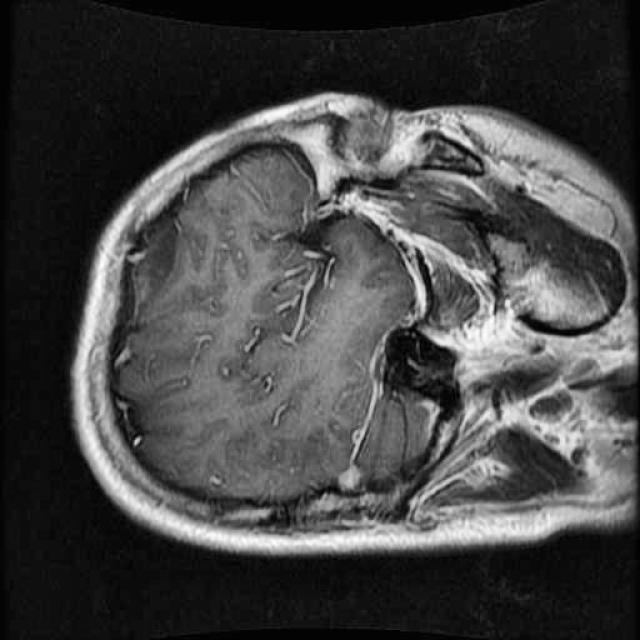Tumor: (131, 206, 193, 308)
